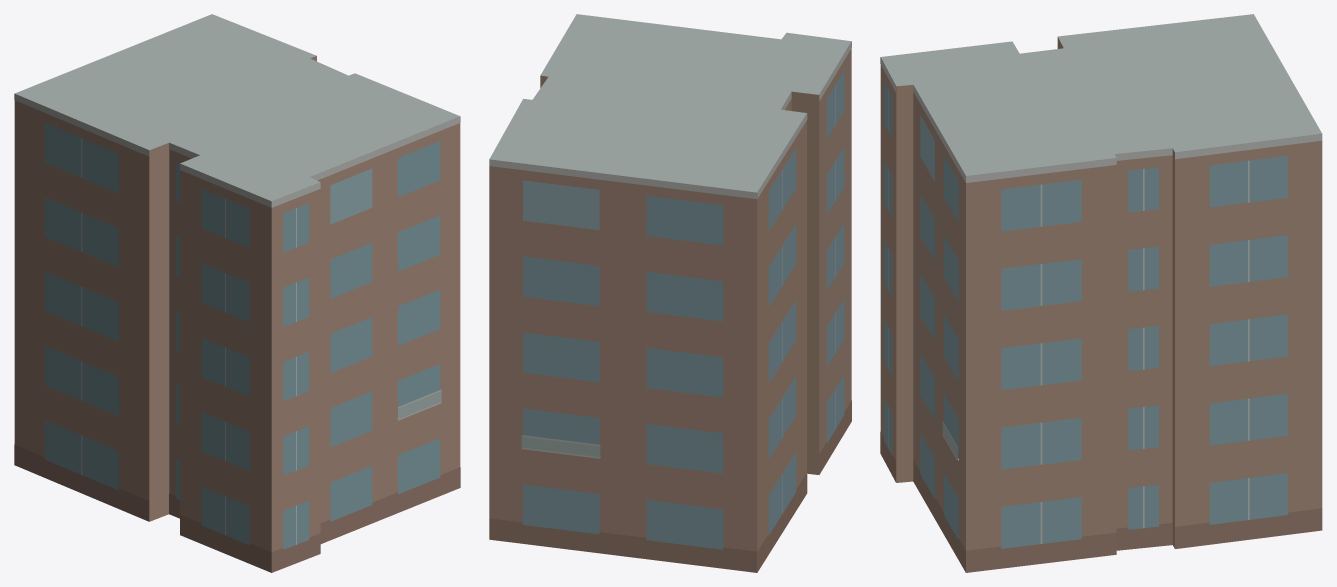
The model's file is survey-upis-32770076.glb.
3 views of the same model, side by side, from view 1: azimuth 30°, elevation 25°; view 2: azimuth 150°, elevation 25°; view 3: azimuth 270°, elevation 25° (orthographic). The views are drawn at different scales.
Visible parts, largest first — view 1: survey-upis-32770076.tmp; view 2: survey-upis-32770076.tmp; view 3: survey-upis-32770076.tmp.
Boxes of the visible parts, x1,y1,x2,y2 form: survey-upis-32770076.tmp: [14, 14, 460, 572]; survey-upis-32770076.tmp: [489, 14, 851, 572]; survey-upis-32770076.tmp: [880, 14, 1322, 572].
Bounding box in the file's own units: 12.19 × 13.9 × 14.04.
